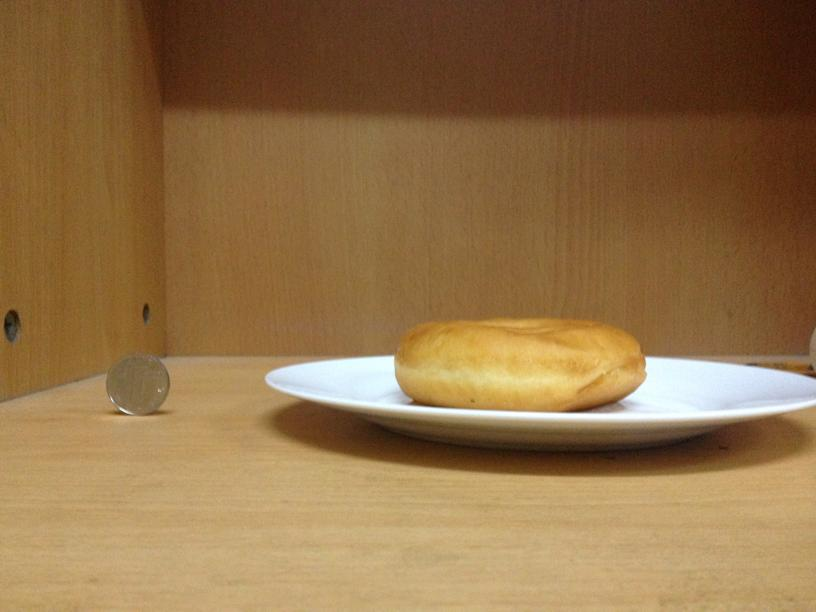coin: (101, 353, 170, 416)
doughnut: (396, 315, 644, 411)
